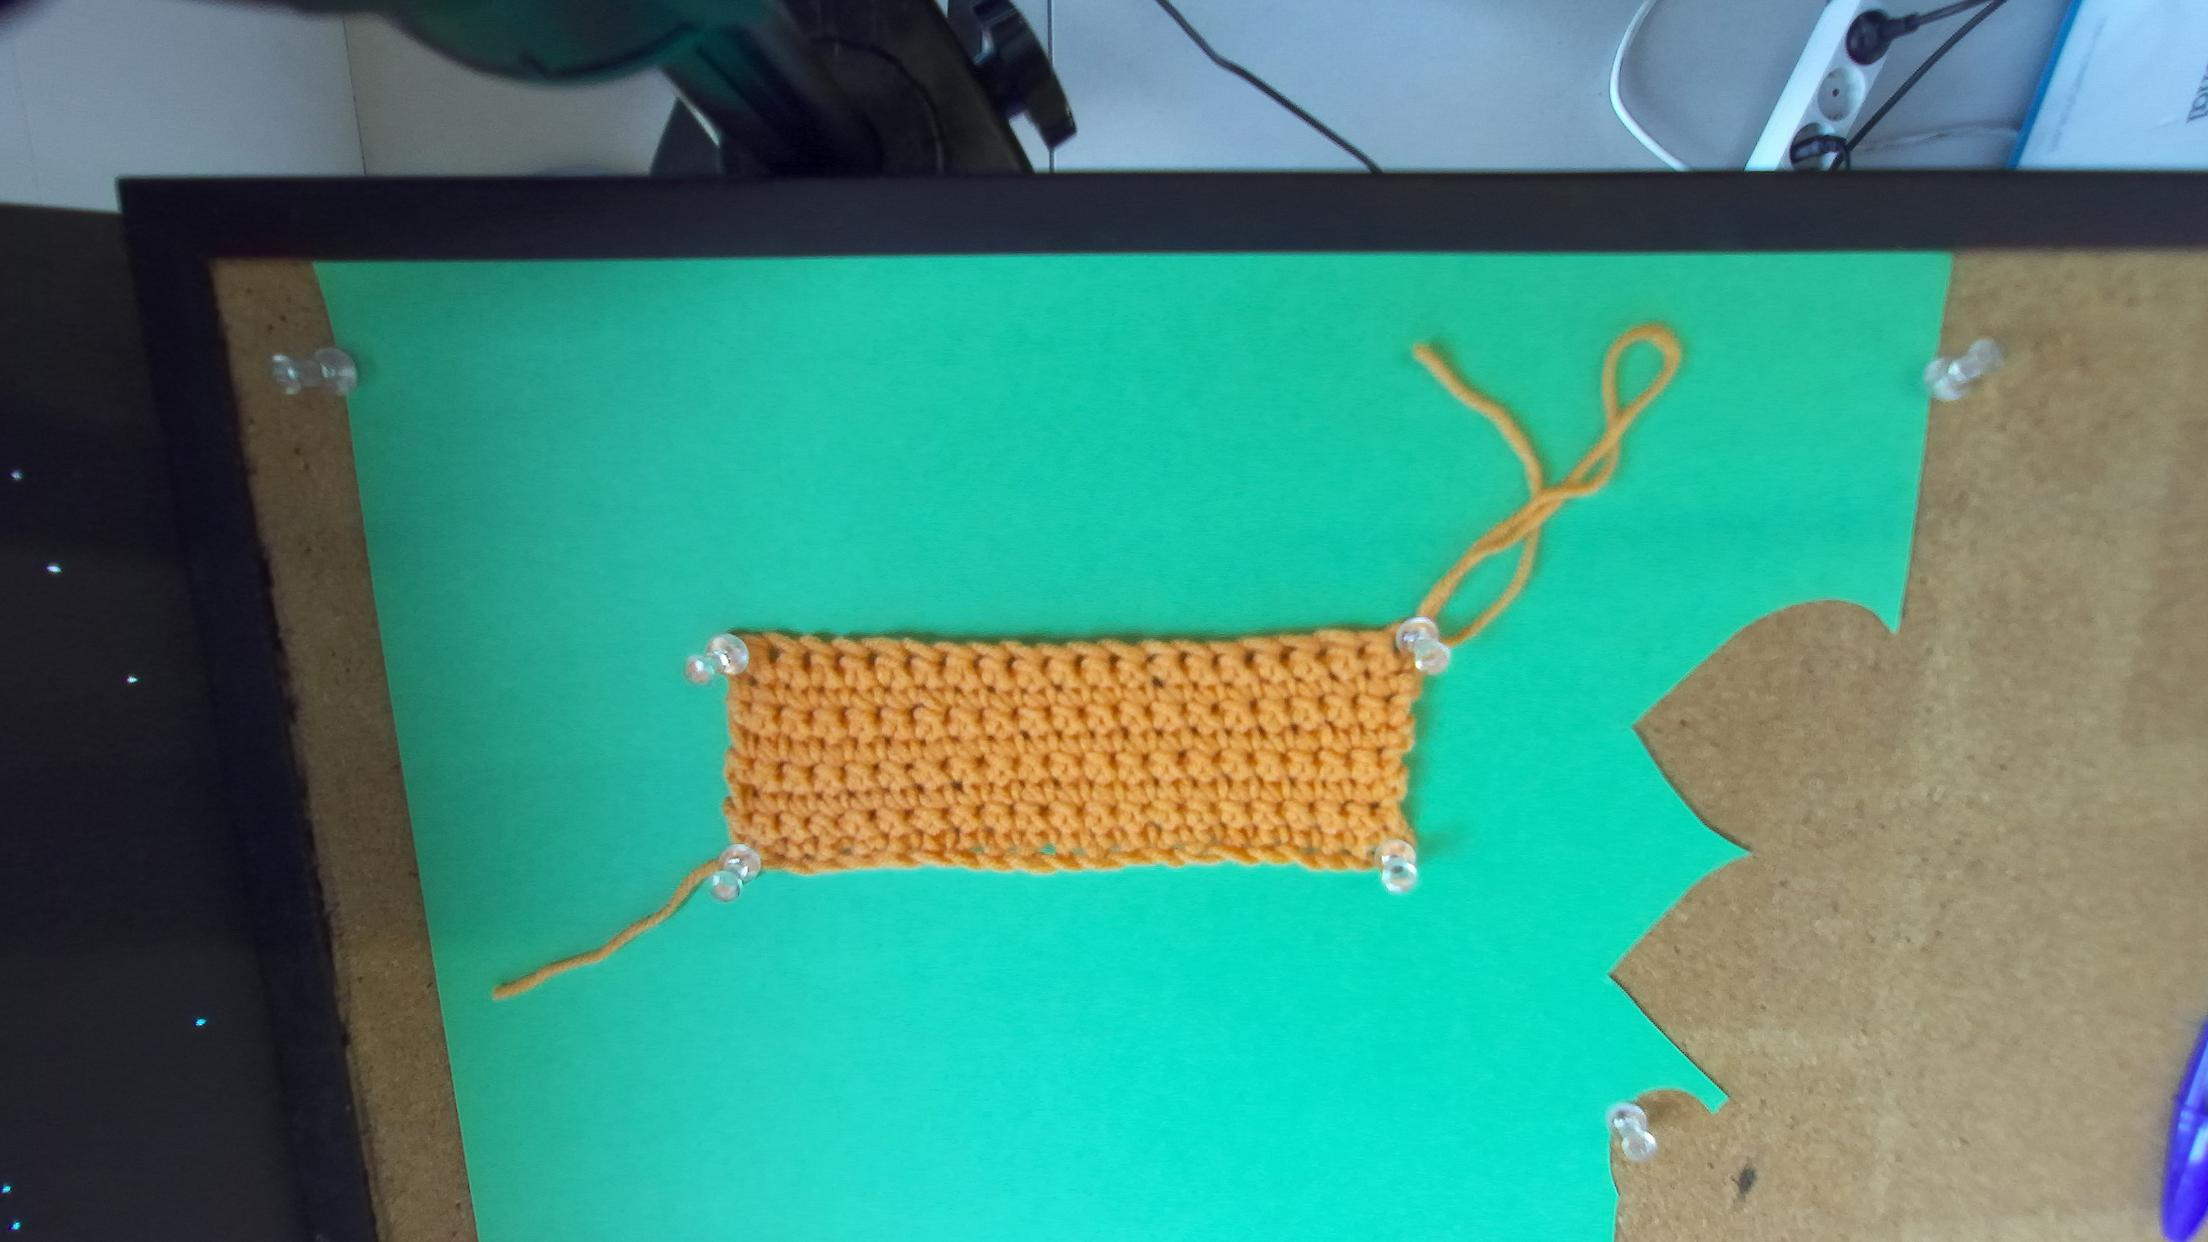hole: (766, 641, 784, 664), (802, 649, 817, 672), (1242, 649, 1260, 667), (1313, 643, 1333, 660), (1074, 652, 1086, 676), (1278, 648, 1295, 664), (1039, 652, 1051, 675), (1354, 641, 1369, 660), (1005, 654, 1019, 672), (866, 649, 878, 669), (1106, 654, 1125, 666), (1210, 652, 1225, 667), (904, 652, 917, 669), (1177, 651, 1193, 664), (971, 654, 983, 672), (834, 651, 845, 670), (939, 651, 948, 672), (1145, 652, 1160, 664)
swatch: (710, 629, 1421, 890)
